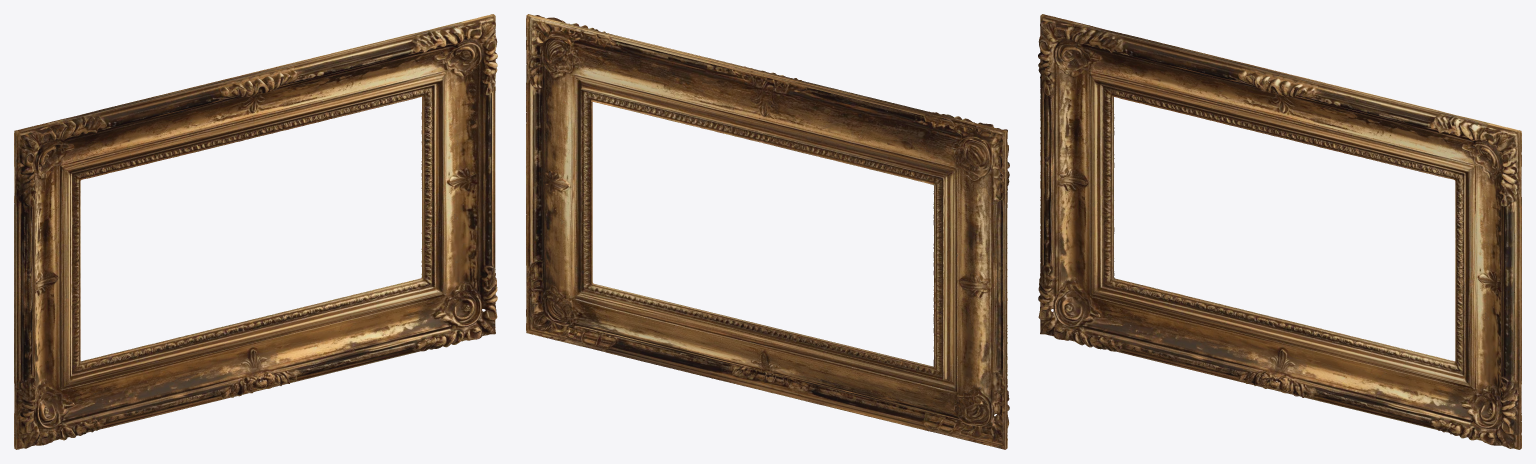
Rendered from frame-transformed.glb.
3 views of the same model, side by side, from view 1: azimuth 30°, elevation 25°; view 2: azimuth 150°, elevation 25°; view 3: azimuth 330°, elevation 25° (orthographic).
Bounding box in the file's own units: 1.9 × 1.2 × 0.0889.
1 material, 1 textured.
